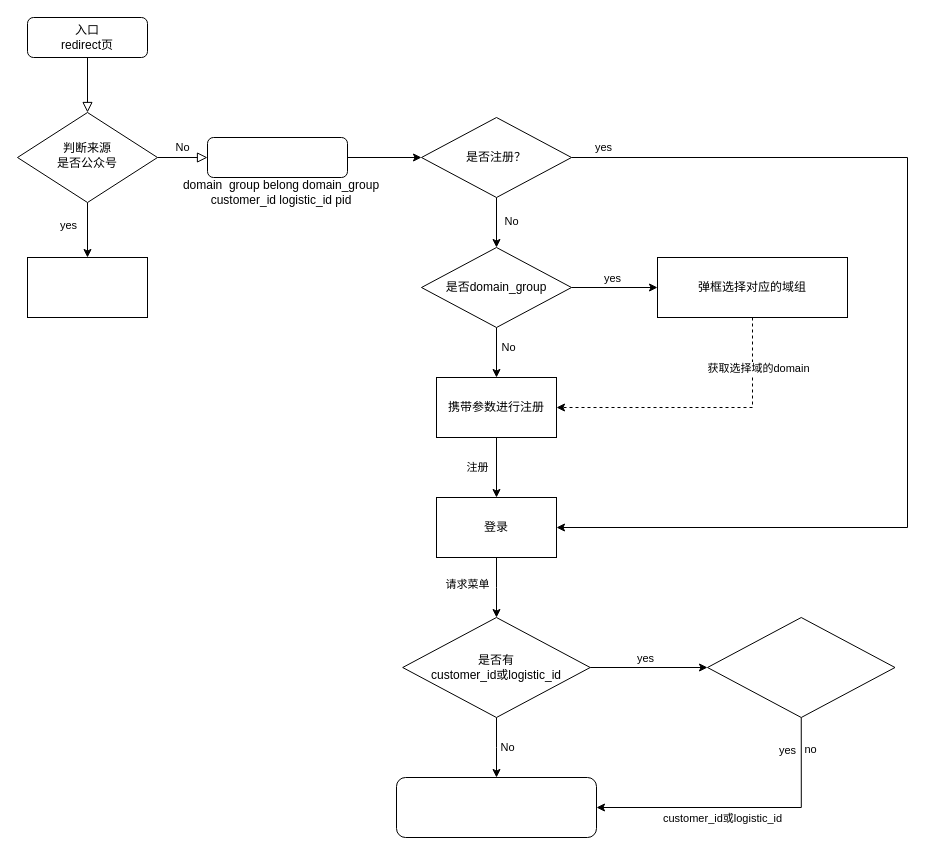
Image size: 933x855. Some labels were removed from this diagram. The centre of each missing label's shape, as x and y in pixels:
"弹框是否接受邀请 （ /tms/api/createIdkLink ）" goes at [800,667].
"携带belong登录对应的pid页面" goes at [496,807].
"确认携带参数scene" goes at [277,157].
"隐藏体验登录" goes at [87,287].
